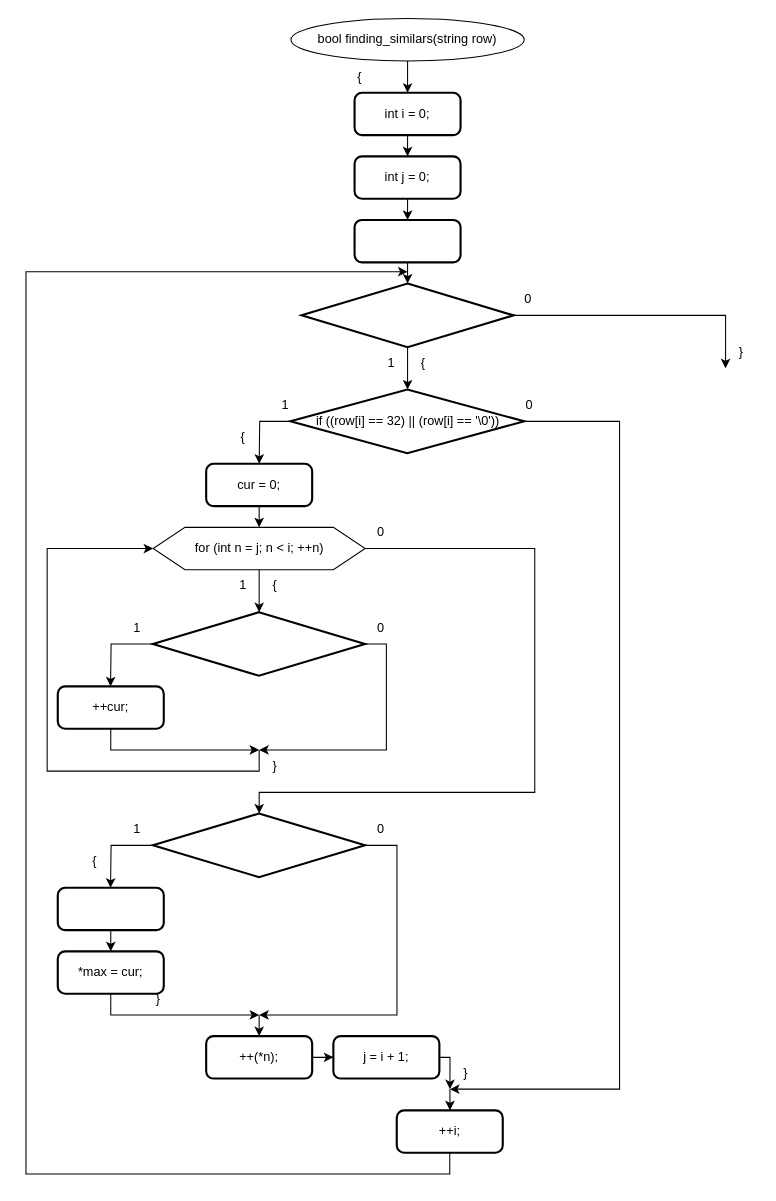
Some shapes in this 776 by 1201 pixel diagram are drawn without their labels. Each missing label, with the centre of its shape:
"*id = *n;" belongs at (x=110, y=908).
"if (cur > *max)" belongs at (x=258, y=845).
"if (row[n] == 'a')" belongs at (x=258, y=643).
"int cur;" belongs at (x=407, y=240).
"while (i <= size(row))" belongs at (x=407, y=315).
